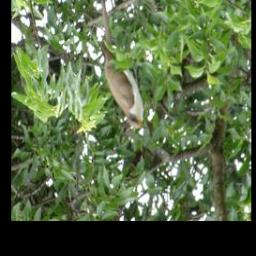Cuckoo: (98, 0, 151, 134)
